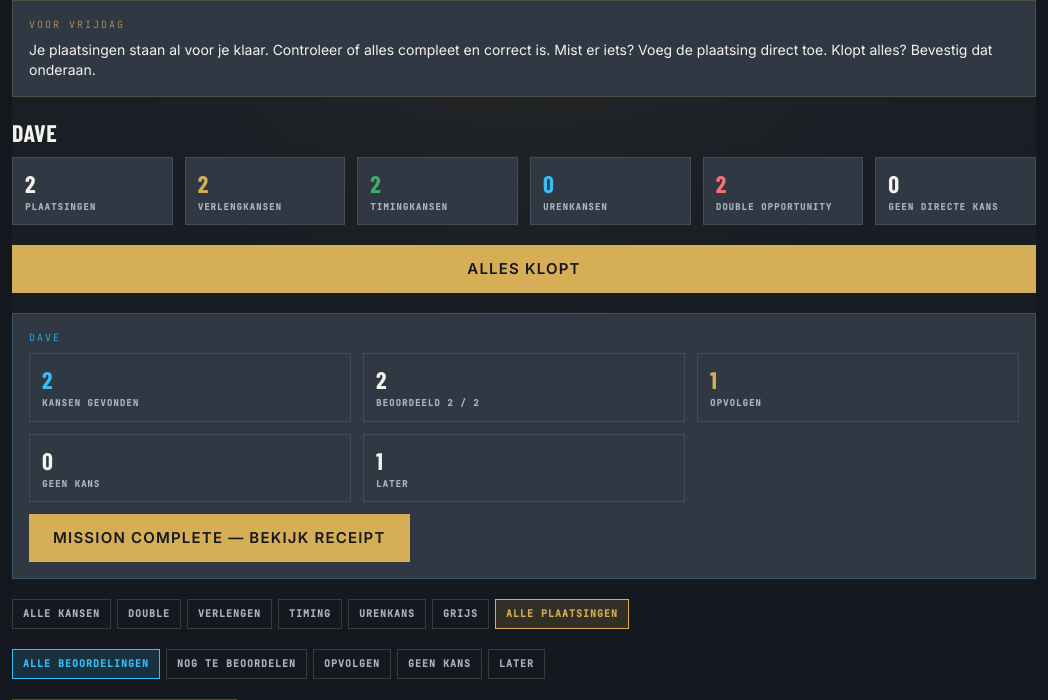
Test: MyPlacementsView — opportunity review (sales-meeting workflow) › Mission Complete unlocks once every opportunity is reviewed (LATER accepted) and the receipt shows commitments
Click the button "Mission Complete — Bekijk Receipt" at (219, 538), box left=29, top=514, right=410, bottom=562
(page scrolled)
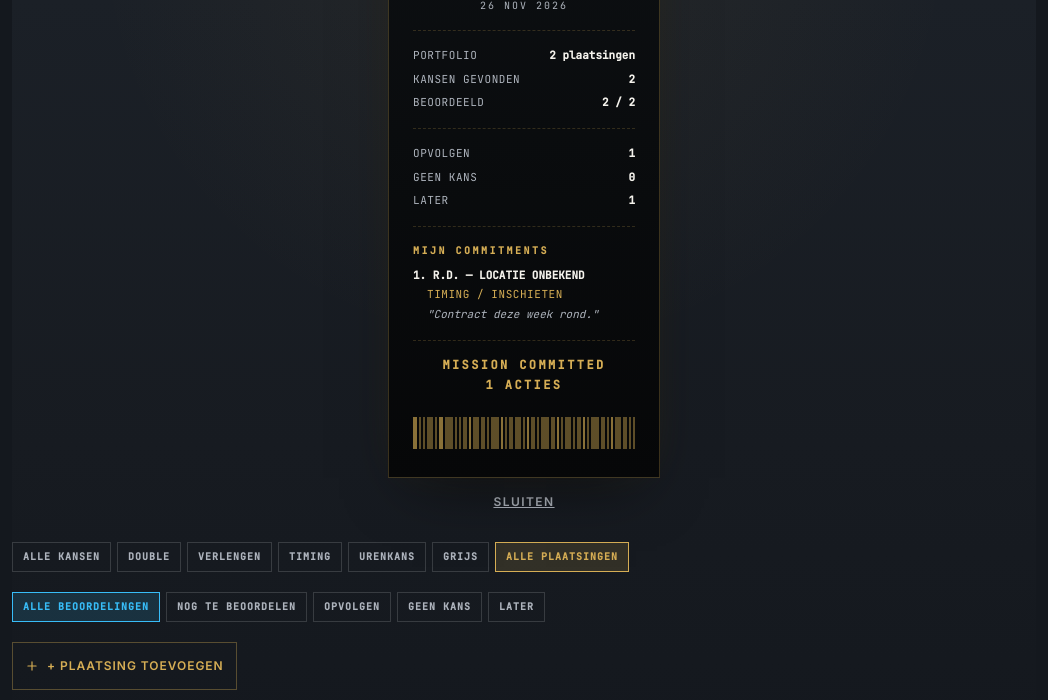
Expected: the text "TIMING / INSCHIETEN" is shown, left=427, top=287, right=563, bottom=301
Expected: the text "1 acties" is shown, left=486, top=376, right=562, bottom=392
